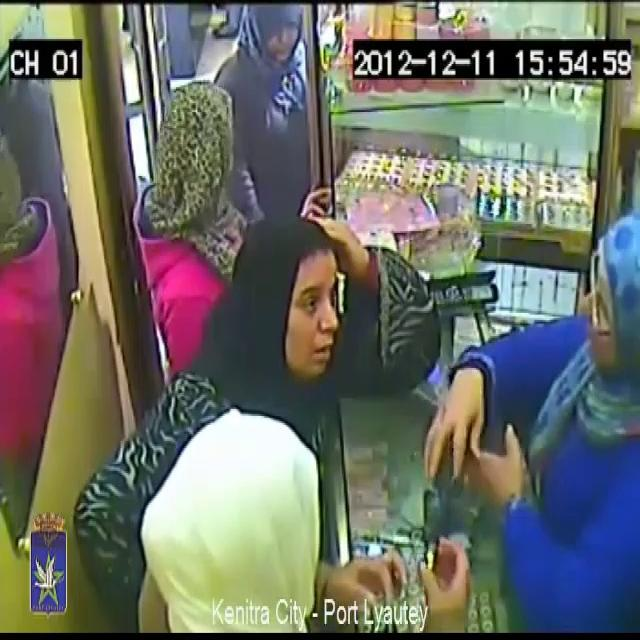Product: (412, 540, 443, 592)
normal: (466, 138, 639, 640), (250, 202, 382, 418), (138, 65, 247, 311), (228, 0, 314, 192)
shoplifting: (132, 413, 482, 640)
